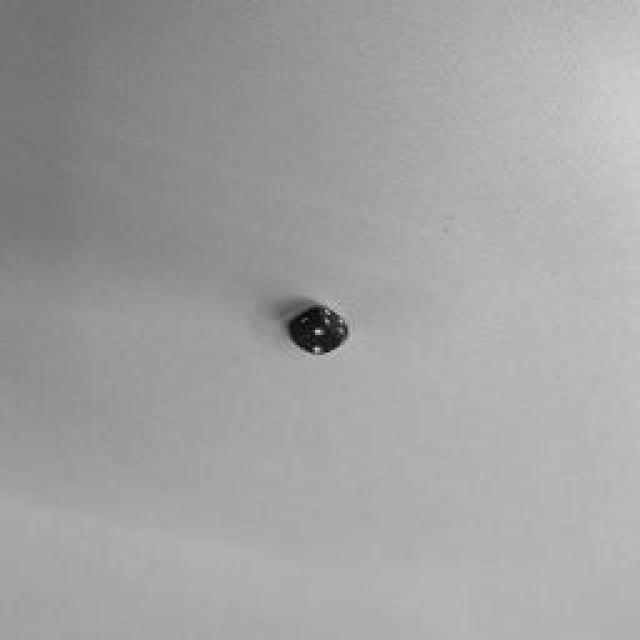dice_2: (296, 326, 342, 354)
